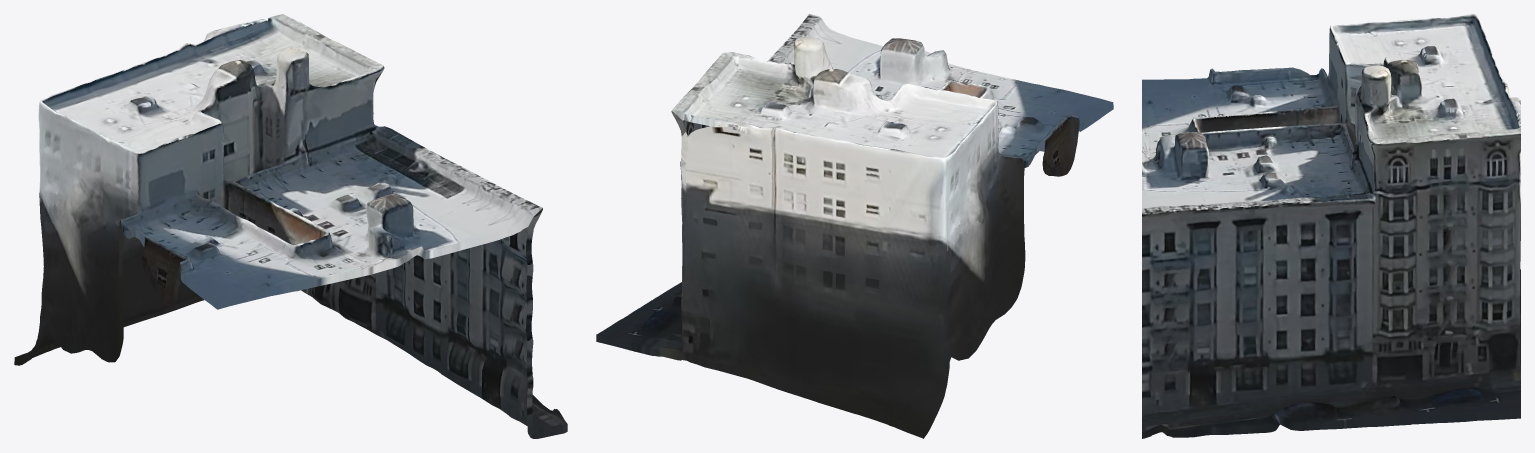
File: z20-167749-405240-h0-yup-uvflip-v3-world.glb
3 views of the same model, side by side, from view 1: azimuth 30°, elevation 25°; view 2: azimuth 150°, elevation 25°; view 3: azimuth 270°, elevation 25° (orthographic). The views are drawn at different scales.
Bounding box in the file's own units: 30.2 × 26.8 × 30.32.
1 material, 1 textured.
